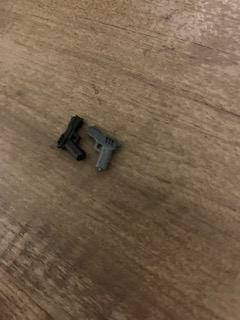pistol: (83, 123, 122, 175), (55, 114, 91, 164)
